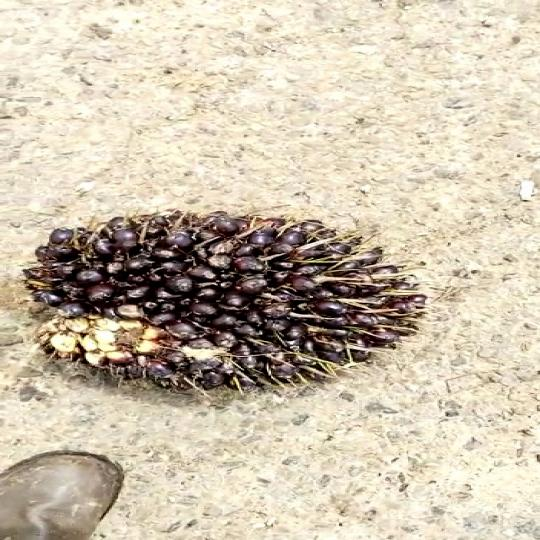mentah: (7, 174, 473, 414)
